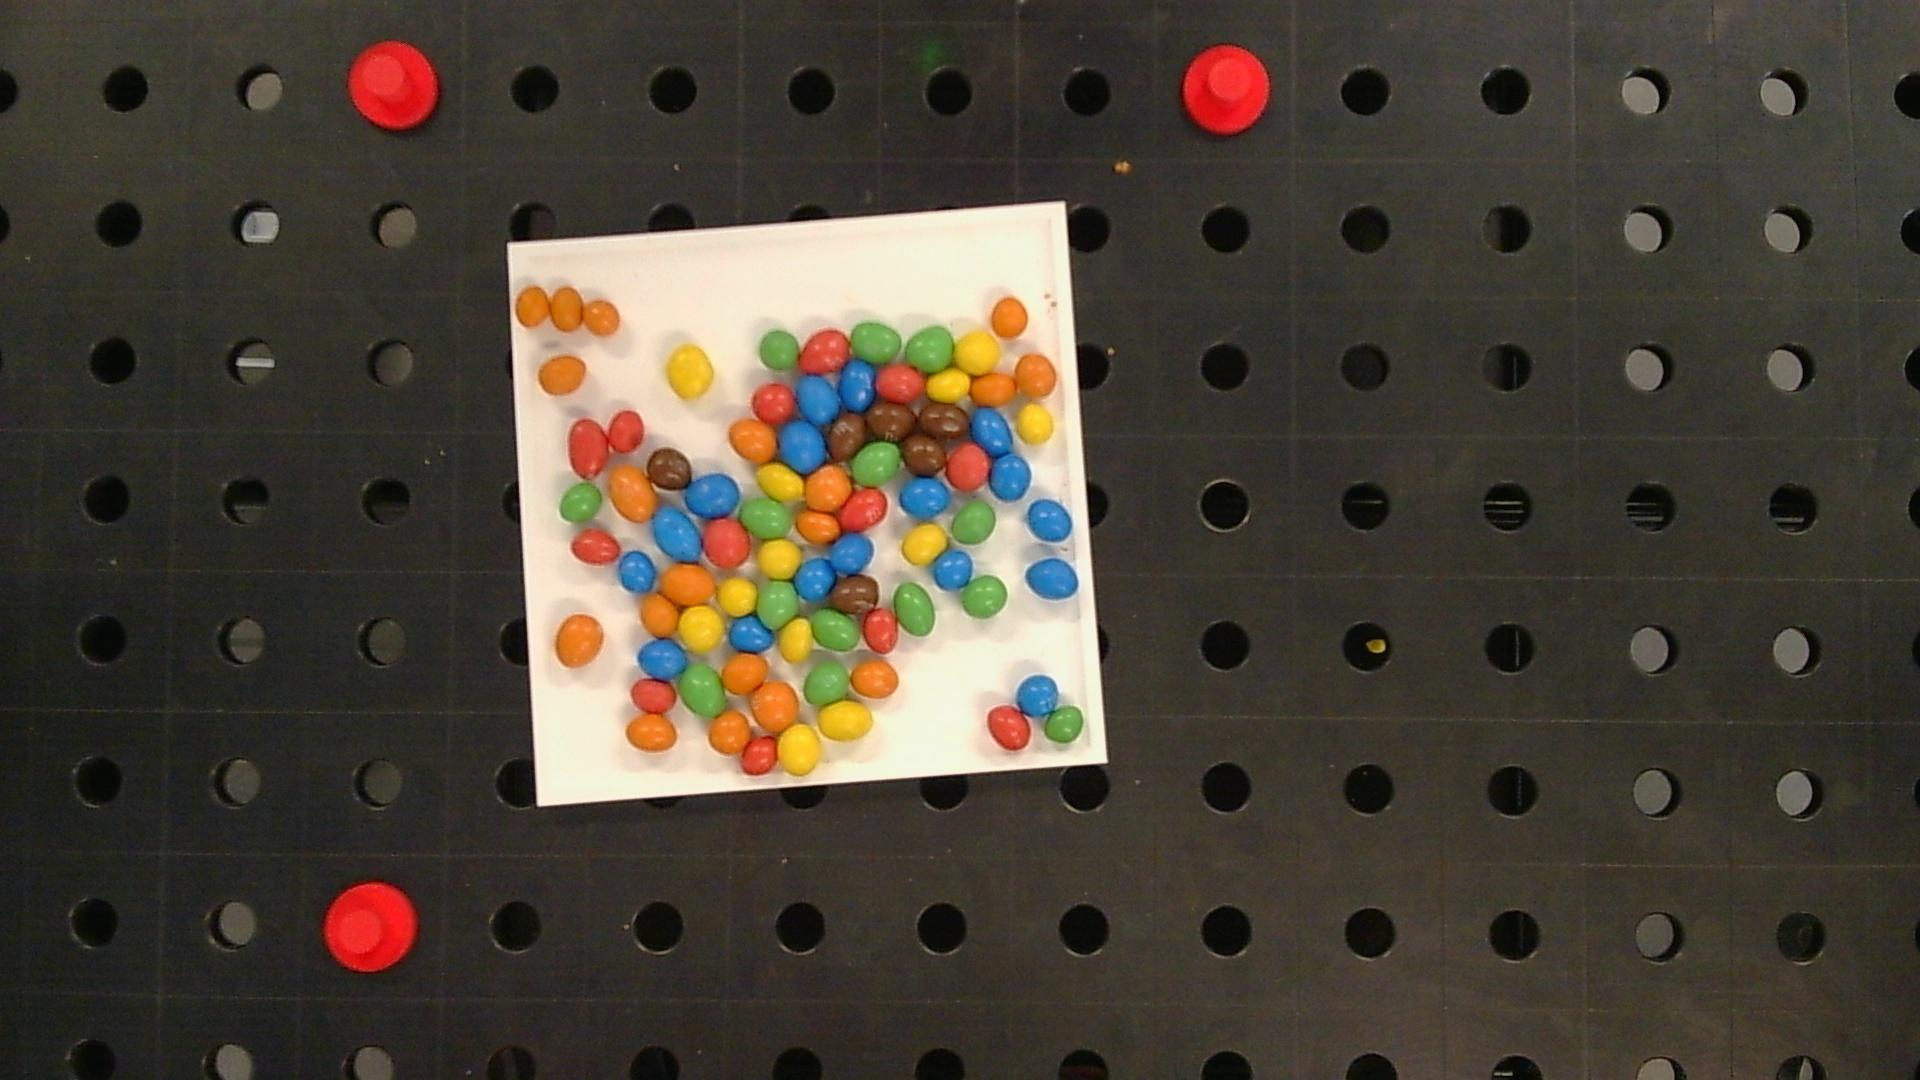blue: (654, 509, 702, 560), (687, 473, 740, 517), (781, 421, 825, 471), (796, 376, 840, 425), (1026, 559, 1079, 599), (901, 476, 949, 517), (1027, 500, 1072, 542), (989, 454, 1030, 500), (972, 407, 1011, 455), (638, 638, 686, 678), (839, 360, 876, 410), (832, 533, 873, 574), (795, 558, 836, 599), (1017, 675, 1059, 715), (729, 615, 773, 651), (934, 550, 972, 589), (618, 551, 655, 592)
brown: (919, 405, 969, 444), (647, 447, 692, 491), (868, 401, 916, 440), (833, 576, 878, 618), (827, 415, 866, 460), (902, 434, 944, 475)
green: (679, 665, 725, 715), (852, 442, 901, 487), (894, 583, 935, 636), (741, 497, 794, 538), (906, 327, 955, 371), (851, 322, 902, 363), (804, 662, 849, 705), (961, 576, 1007, 618), (812, 609, 858, 651), (952, 501, 996, 545), (758, 582, 799, 628), (559, 483, 601, 522), (760, 330, 799, 369), (1044, 705, 1085, 744)
orange: (609, 465, 657, 521), (555, 613, 604, 666), (752, 680, 798, 731), (729, 419, 778, 462), (662, 566, 715, 604), (806, 465, 851, 509), (626, 715, 678, 752), (538, 355, 585, 394), (708, 711, 750, 754), (1015, 353, 1056, 397), (723, 654, 767, 694), (851, 661, 898, 698), (795, 512, 843, 546), (641, 593, 678, 636), (550, 286, 583, 330), (972, 373, 1015, 406), (990, 298, 1027, 336), (516, 286, 550, 326), (584, 301, 620, 334)
red: (568, 419, 608, 477), (799, 328, 849, 373), (703, 520, 749, 566), (986, 705, 1031, 749), (947, 444, 990, 489), (840, 489, 886, 530), (876, 365, 924, 401), (571, 530, 620, 563), (753, 384, 796, 421), (864, 608, 898, 653), (608, 409, 644, 451), (630, 679, 675, 712), (741, 737, 778, 774)
yellow: (667, 344, 713, 398), (818, 700, 873, 740), (777, 724, 820, 774), (679, 607, 724, 651), (902, 524, 947, 564), (955, 331, 1000, 372), (757, 464, 804, 501), (758, 539, 800, 579), (926, 369, 971, 401), (1018, 404, 1054, 443), (779, 620, 812, 662), (719, 578, 756, 615)
